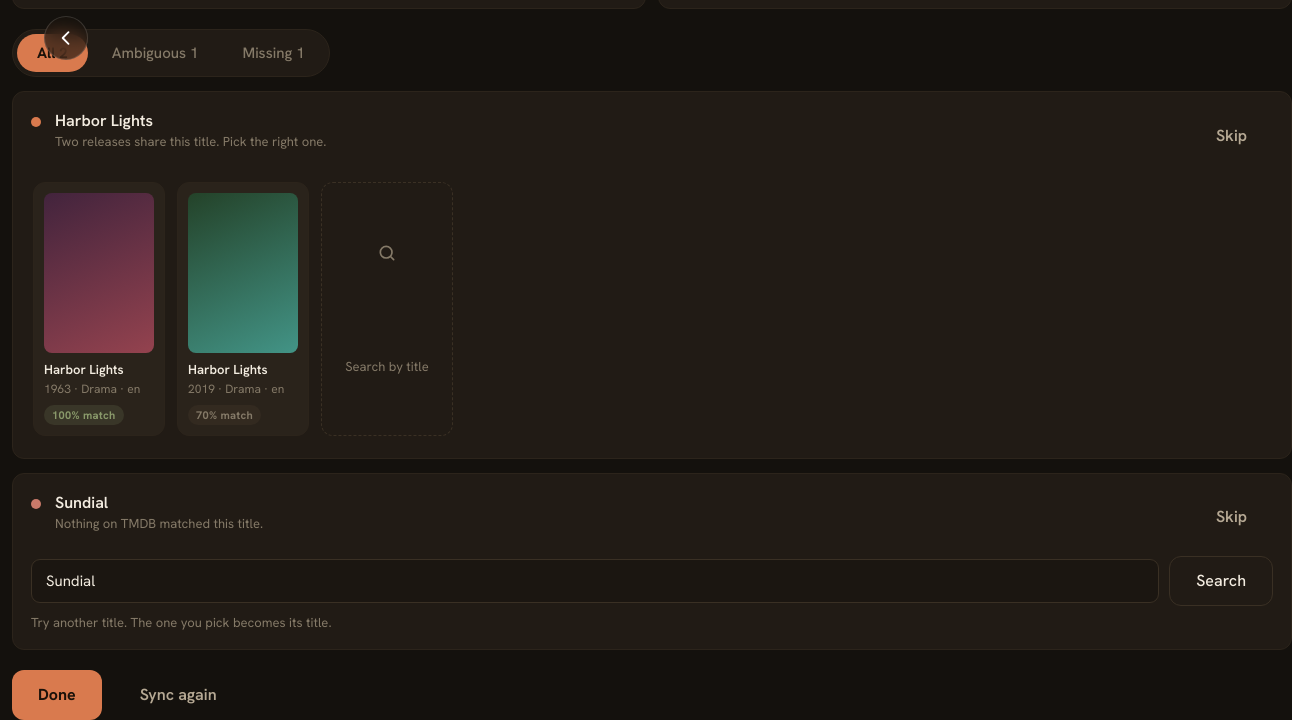
Scenario: EnrichmentFlow — searching › keeps the box, with its line, when nothing matched
The width and height of the screenshot is (1292, 720).
(page scrolled)
Expected: the text "Nothing on TMDB matched this title." is shown, [55,515,263,532]
Replace the text in the field with placeholder "Search TMDB by title and year" with "Sundal" at (595, 581), box [31,559,1159,603]
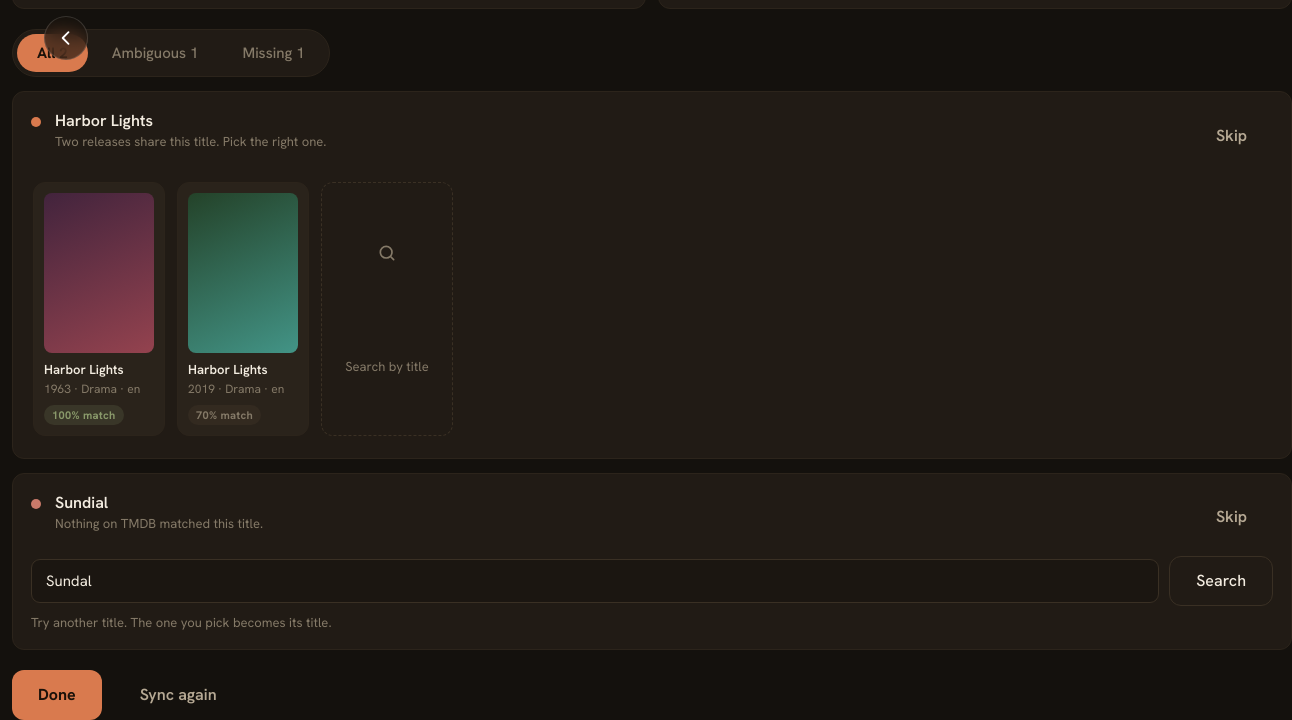
Click the button "Search" at (1221, 581), box [1169,556,1273,606]
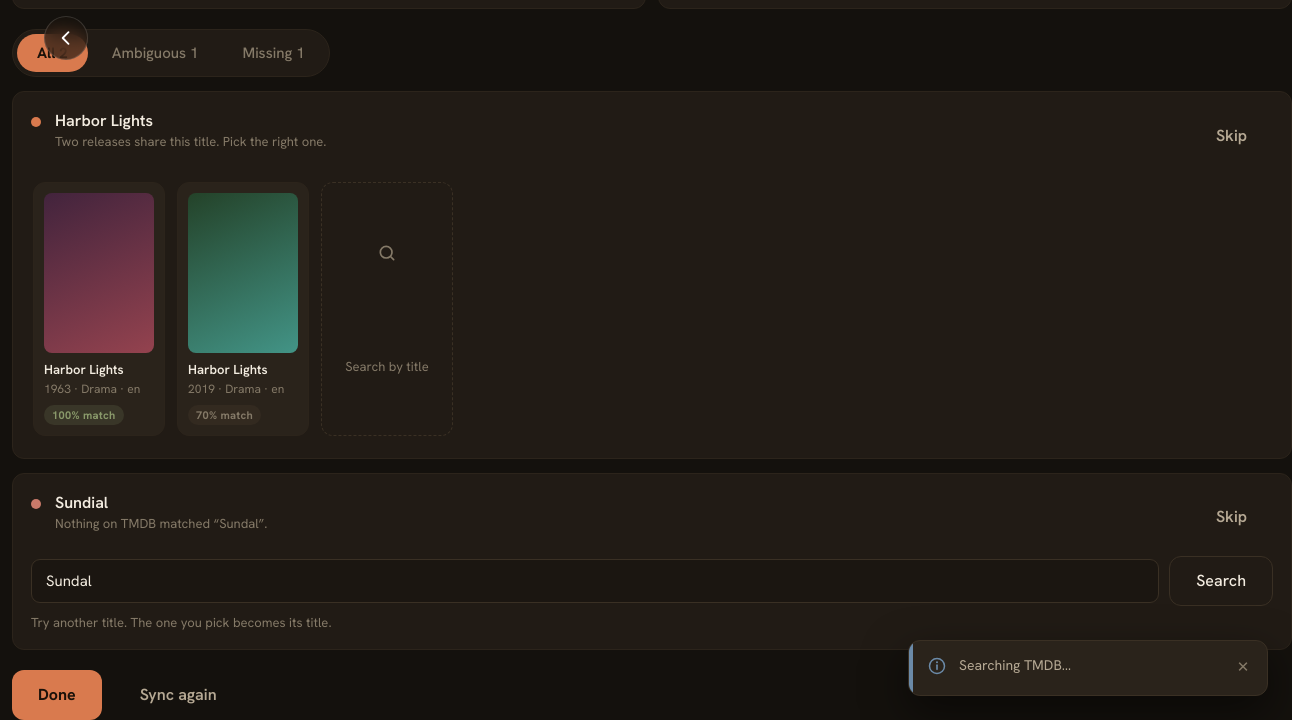
Expected: the field with placeholder "Search TMDB by title and year" is shown, [31,559,1159,603]
Expected: the text "Nothing on TMDB matched “Sundal”." is shown, [55,515,267,532]
